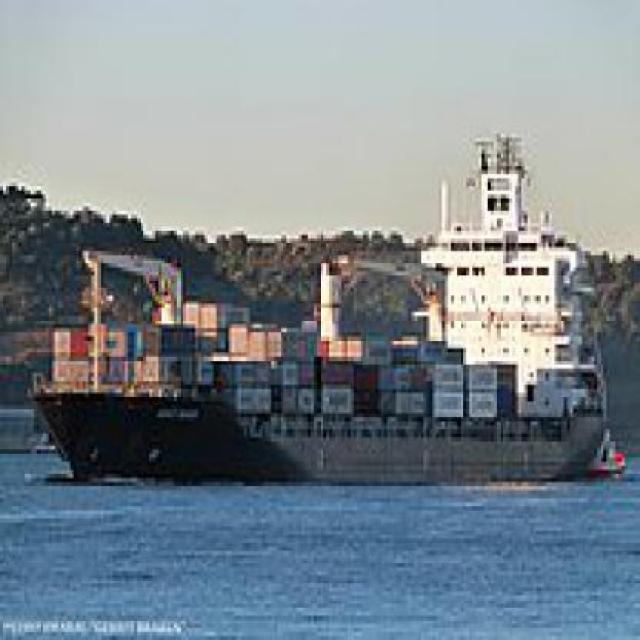container: (28, 179, 626, 508)
